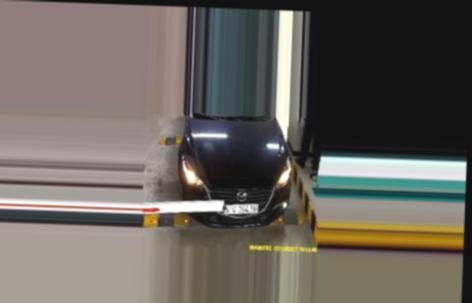License_Plate: (222, 201, 260, 216)
